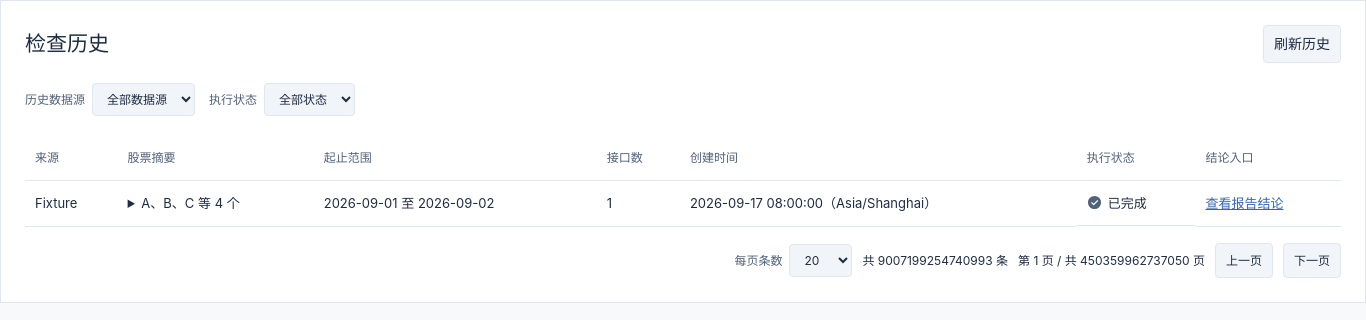
it: resets filters to page one and does not show rows from the previous criteria after failure
The width and height of the screenshot is (1366, 320).
Step 1. Select "失败" in the dropdown named "执行状态" → (310, 100), box [264,83,355,116]
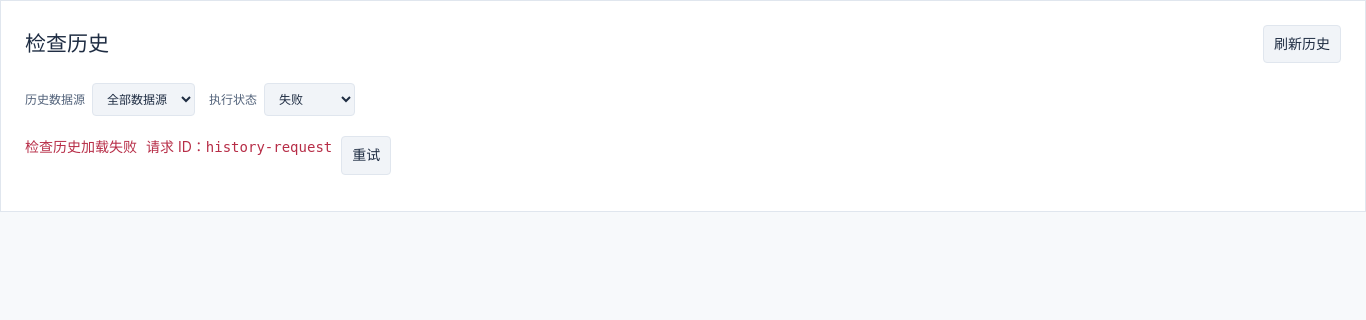
Now the text "查看报告结论" is gone
Now the text "history-request" is shown, box [206,139,332,155]
